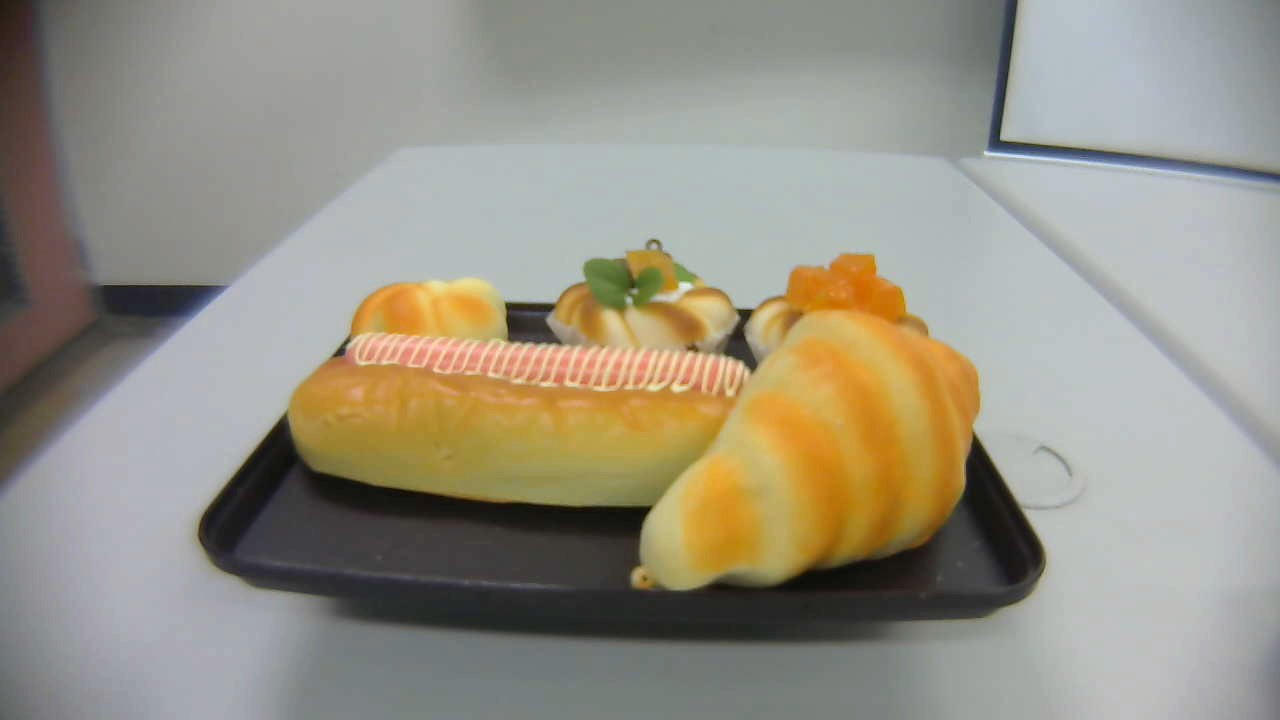croissant: (632, 310, 980, 591)
fruit tart: (547, 237, 741, 364)
hot dog: (288, 332, 755, 506)
mango tart: (744, 253, 931, 390)
twist bread: (350, 277, 511, 378)
